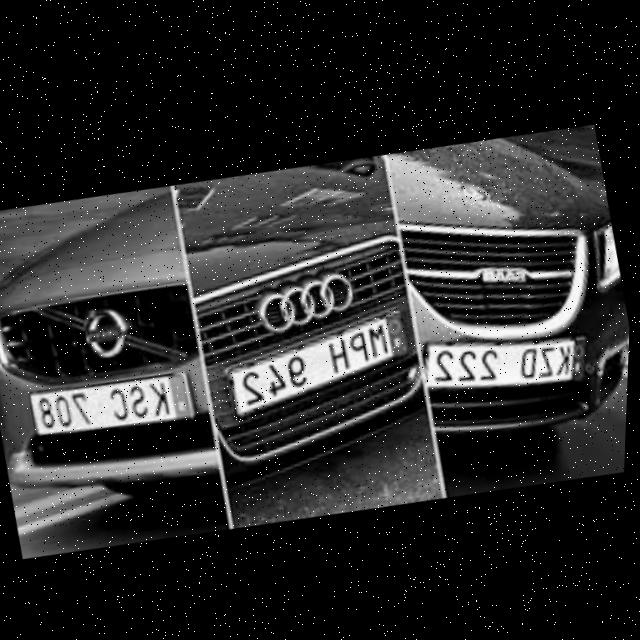license-plates: (228, 313, 406, 414), (31, 377, 190, 434), (427, 338, 584, 386)
